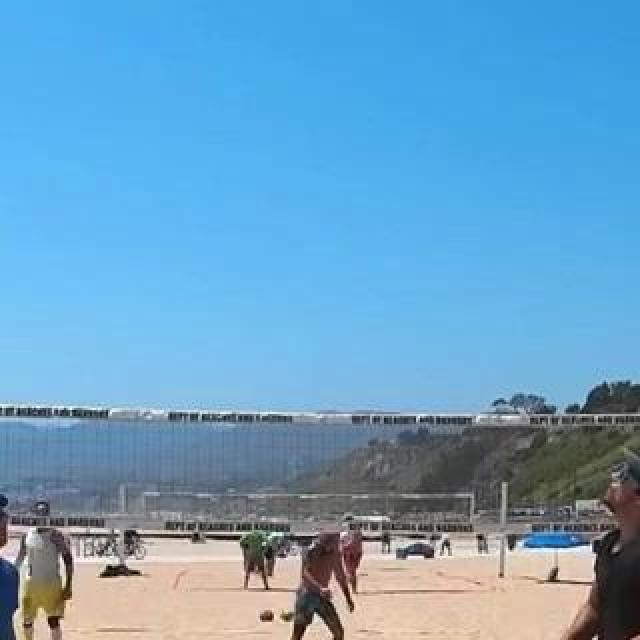volleyball: (260, 608, 274, 622), (281, 608, 295, 622)
